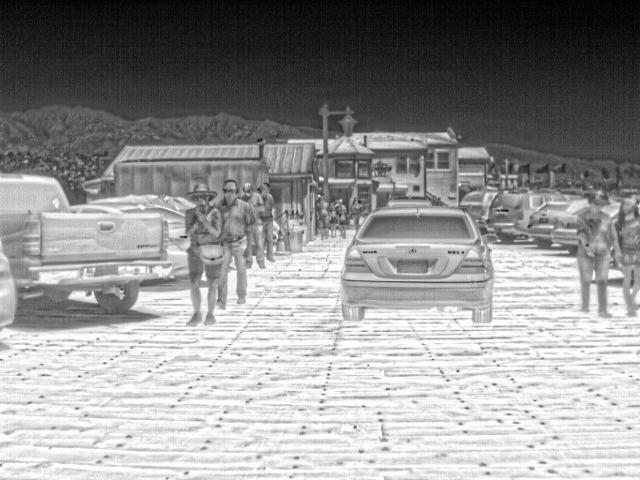car: (1, 168, 177, 313), (341, 206, 496, 324), (73, 201, 193, 280), (488, 189, 562, 245), (552, 199, 591, 254), (530, 198, 570, 244), (94, 195, 198, 212), (459, 186, 496, 232), (387, 196, 434, 208)
person: (177, 192, 230, 326), (570, 191, 616, 318), (216, 181, 253, 300), (612, 194, 640, 315), (255, 172, 278, 262), (250, 184, 268, 265), (314, 195, 331, 238), (333, 197, 351, 237), (349, 195, 365, 231), (326, 207, 341, 238)
